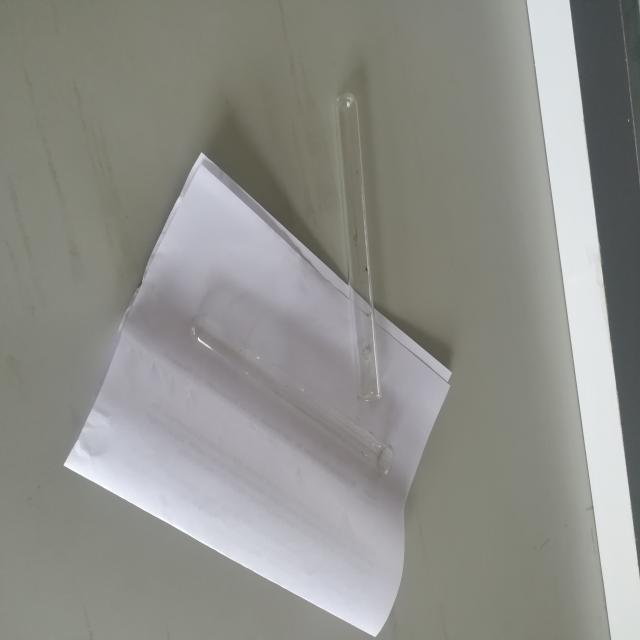Test_Tube: (165, 299, 436, 523), (310, 44, 419, 426)
